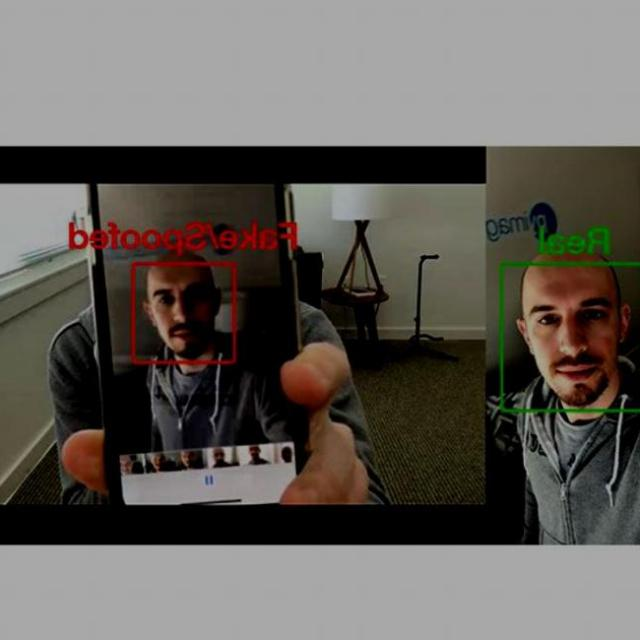device: (89, 185, 294, 498)
live: (525, 262, 614, 396)
